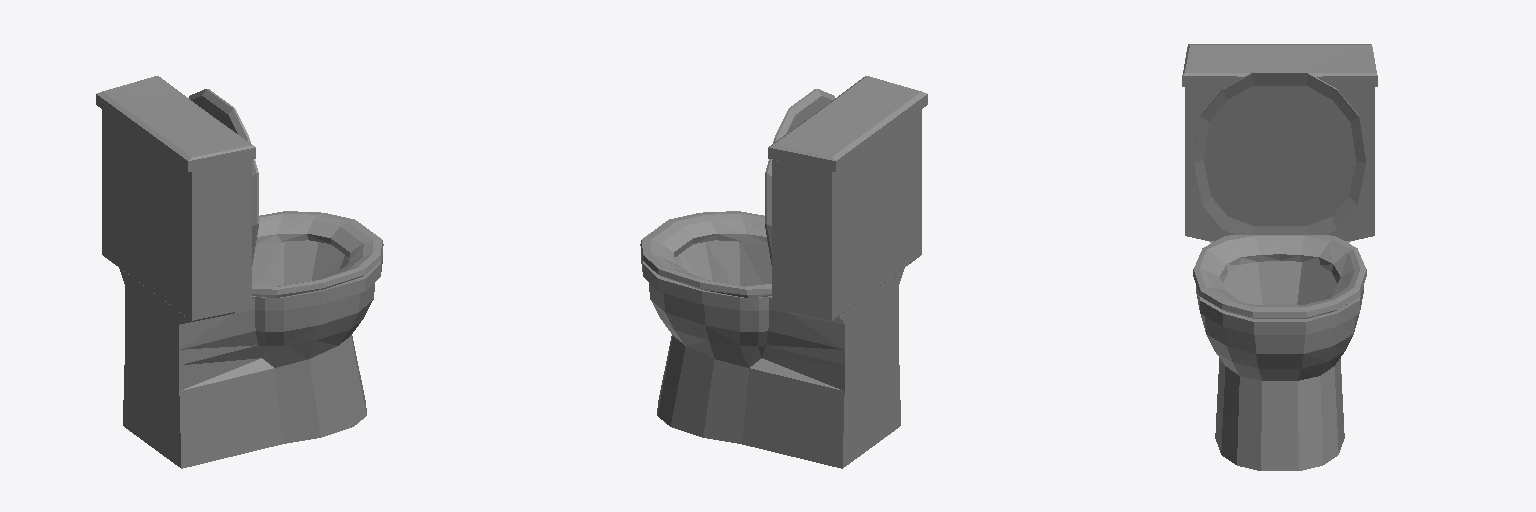
Rendered from Room_301_0_7.obj.
The picture shows the model from 3 angles: view 1: azimuth 30°, elevation 25°; view 2: azimuth 150°, elevation 25°; view 3: azimuth 270°, elevation 25°; orthographic projection.
Visible parts, largest first — view 1: Plane; view 2: Plane; view 3: Plane.
Part boxes in pixels (left/top/right/bottom): Plane: left=96, top=76, right=383, bottom=468; Plane: left=640, top=76, right=927, bottom=468; Plane: left=1182, top=44, right=1377, bottom=470.
Bounding box in the file's own units: 1.19 × 1.66 × 0.8827.